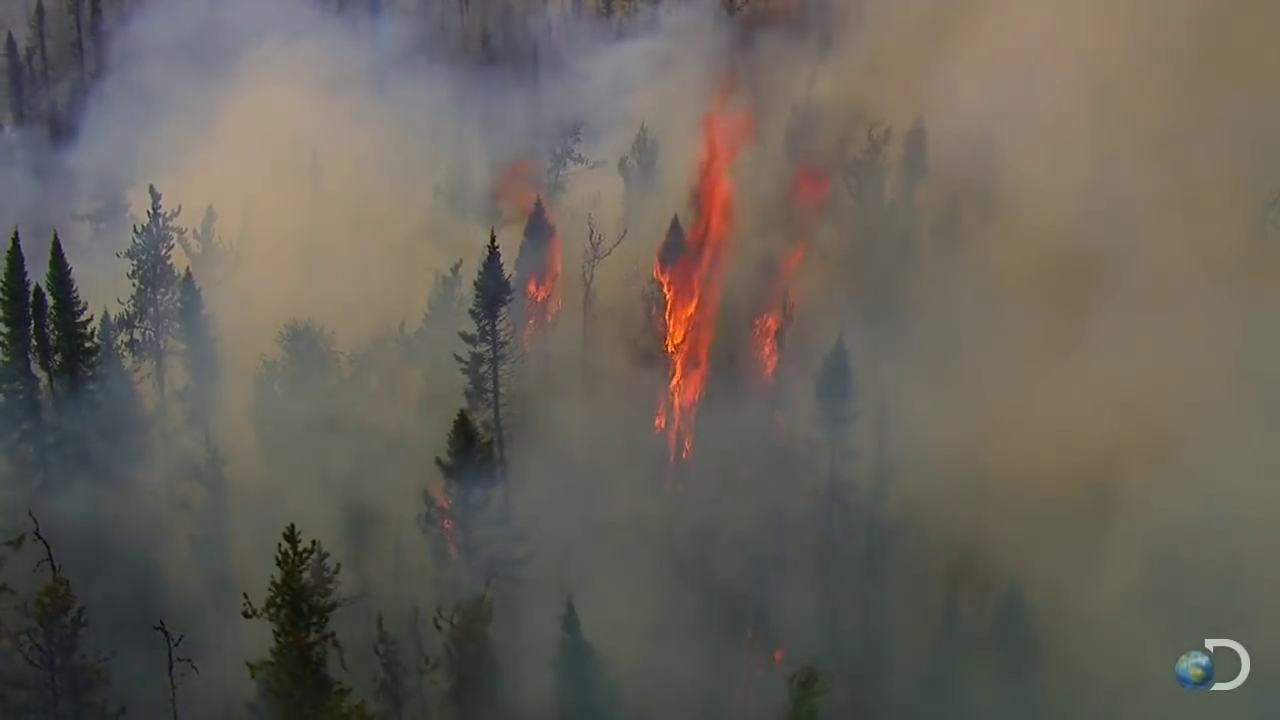forest_fire: (654, 78, 751, 460), (749, 161, 828, 380), (515, 190, 558, 339)
